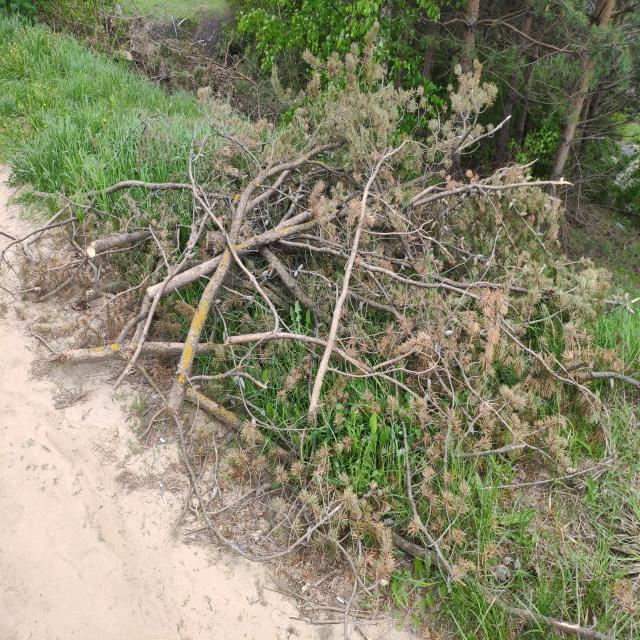restos de madeira: (118, 160, 246, 408), (471, 309, 635, 456), (162, 395, 294, 557), (436, 244, 639, 327), (251, 232, 400, 342), (305, 220, 370, 419), (224, 150, 329, 238), (398, 397, 447, 572), (392, 518, 524, 576), (442, 347, 514, 440), (351, 151, 416, 254), (395, 299, 457, 406), (2, 202, 78, 274), (185, 137, 224, 242), (349, 367, 425, 416), (85, 269, 152, 324), (258, 143, 342, 180), (38, 344, 150, 369), (117, 112, 170, 158), (507, 204, 551, 258), (339, 556, 367, 639), (422, 270, 499, 298), (568, 198, 635, 228), (544, 616, 626, 640), (418, 180, 488, 208), (470, 178, 574, 195), (86, 230, 153, 256), (493, 598, 551, 625), (489, 157, 539, 175), (27, 328, 59, 356)
